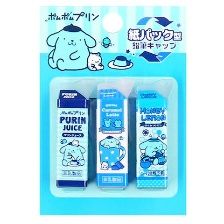carton: (133, 87, 172, 192), (54, 89, 92, 193), (93, 86, 130, 191)
